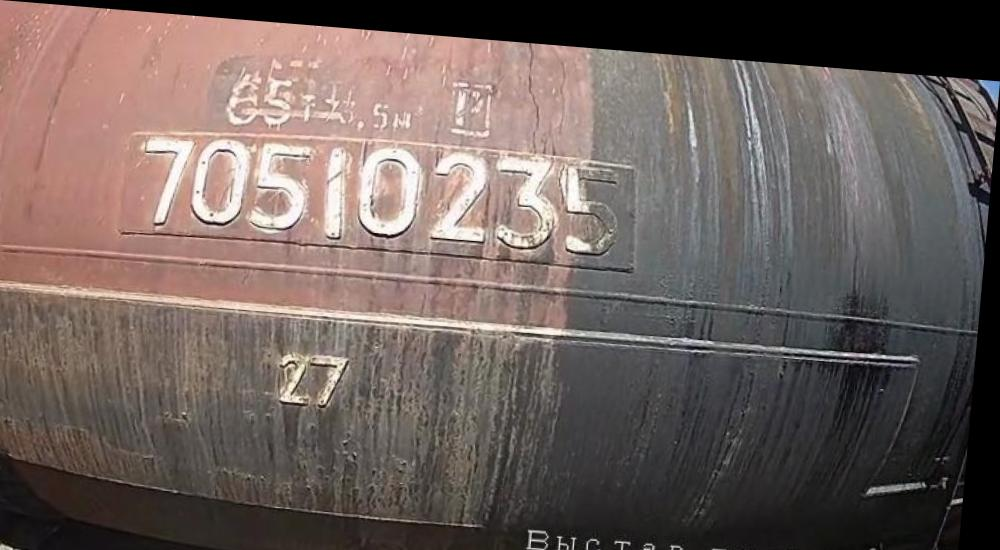Wagon-number: (131, 127, 631, 259)
